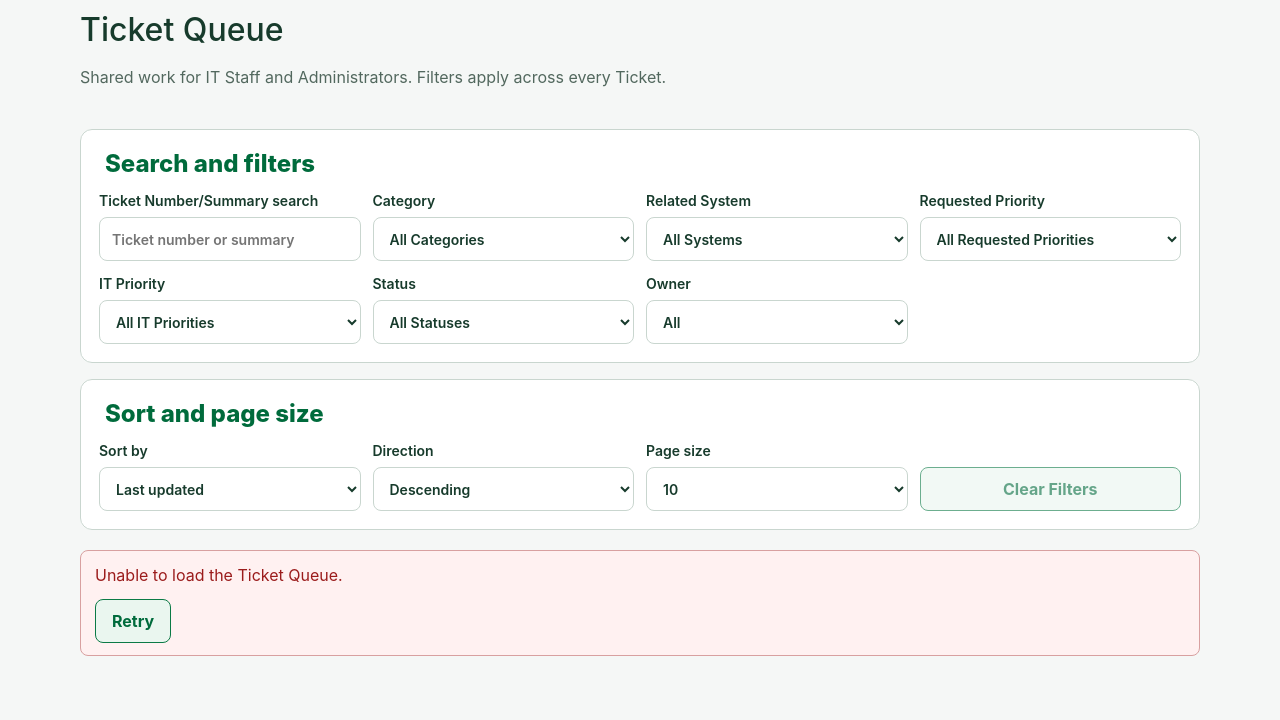
Test: UI-05 Staff Ticket Queue › keeps controls after a safe failure and retries
(page scrolled)
Expected: the heading "Ticket Queue" is shown, [80,10,284,49]
Expected: the message shows "Unable to load", [95,565,343,585]
Click the button "Retry" at (133, 621), box [95,599,171,643]
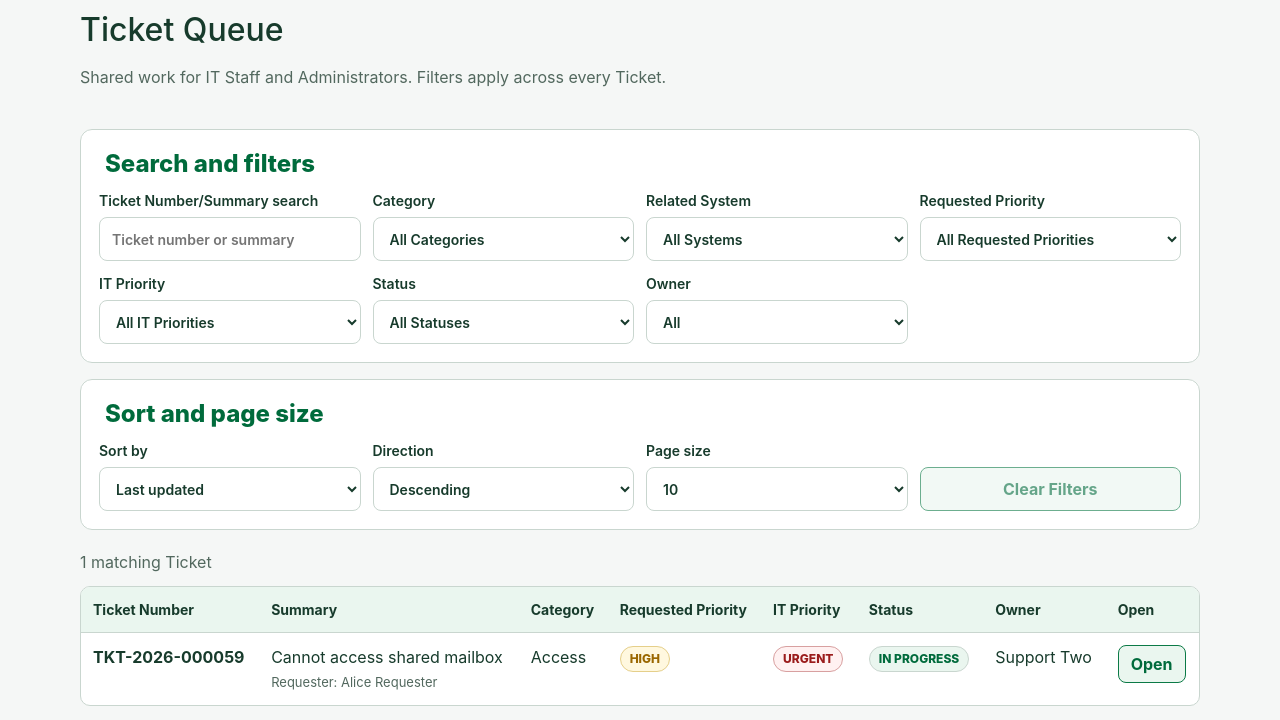
Expected: the text "1 matching Ticket" is shown, [80,552,212,572]
